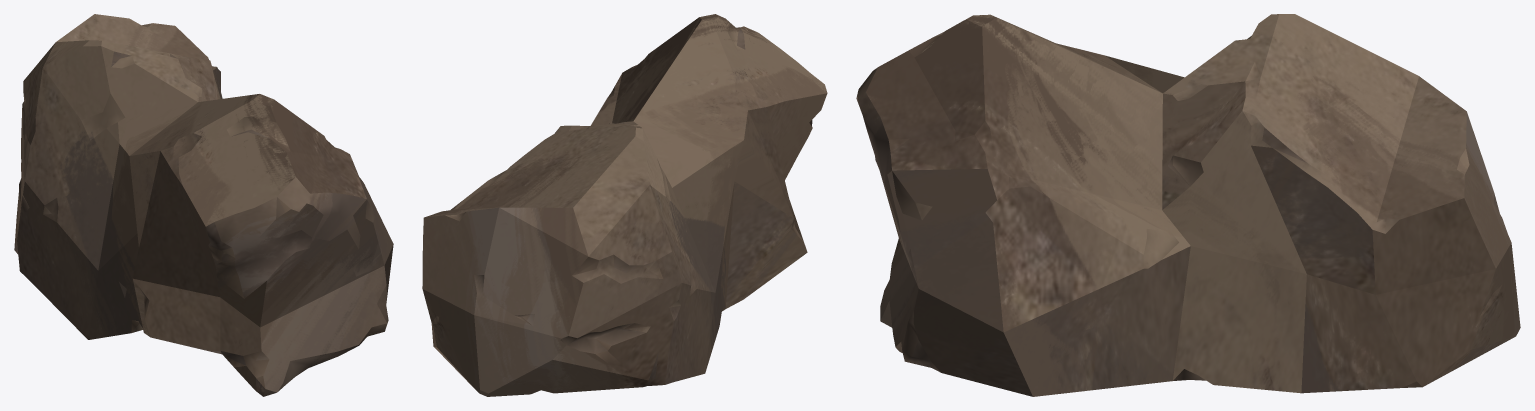
File: P_ROCK 6.fbx
3 renders of one model, left to right at view 1: azimuth 30°, elevation 25°; view 2: azimuth 150°, elevation 25°; view 3: azimuth 270°, elevation 25°, orthographic. The views are drawn at different scales.
Parts seen in each view (by area): view 1: Rock_06; view 2: Rock_06; view 3: Rock_06.
Boxes of the visible parts, bbox=[...] form: Rock_06: bbox=[14, 14, 393, 396]; Rock_06: bbox=[422, 14, 827, 396]; Rock_06: bbox=[856, 14, 1520, 396].
Size of the model in its own units: 162 by 179 by 301.
